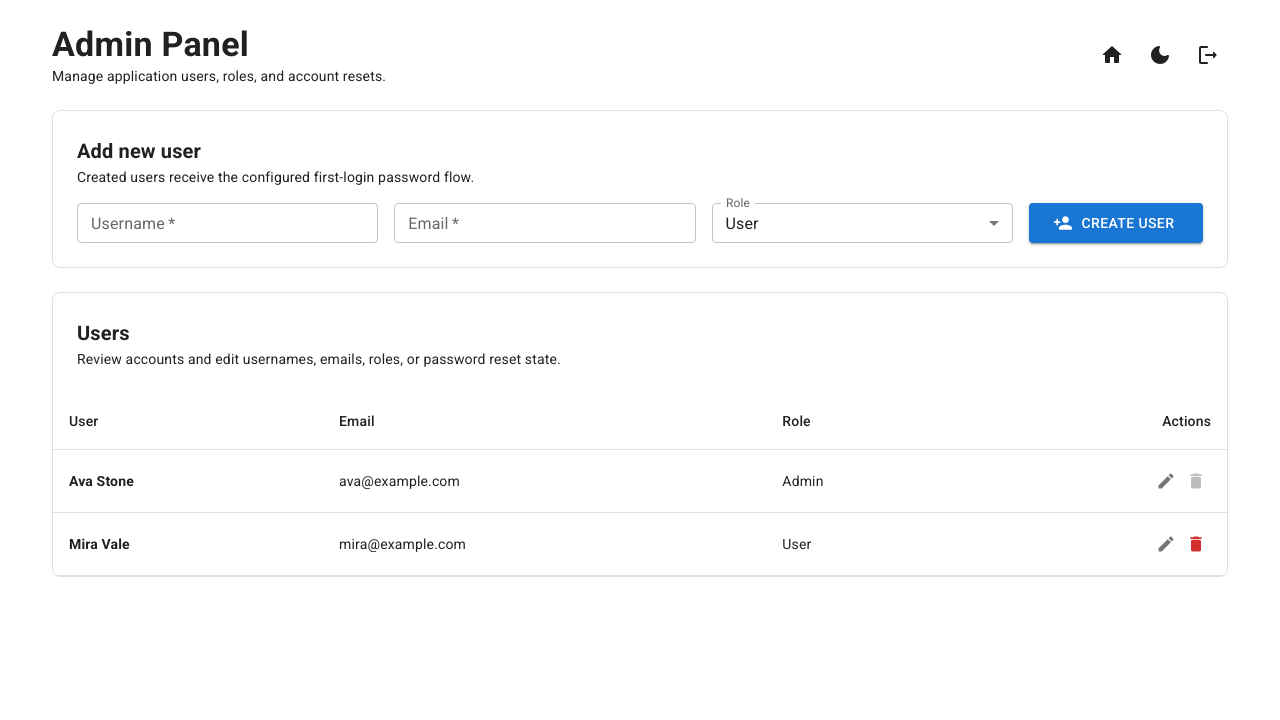
Test: <AdminPanelPage /> › deletes a user after confirmation
Expected: the text "mira@example.com" is shown, x1=323 y1=512 x2=766 y2=576
Click the button named "delete mira vale".
click(1196, 544)  # box x1=1181 y1=529 x2=1211 y2=559
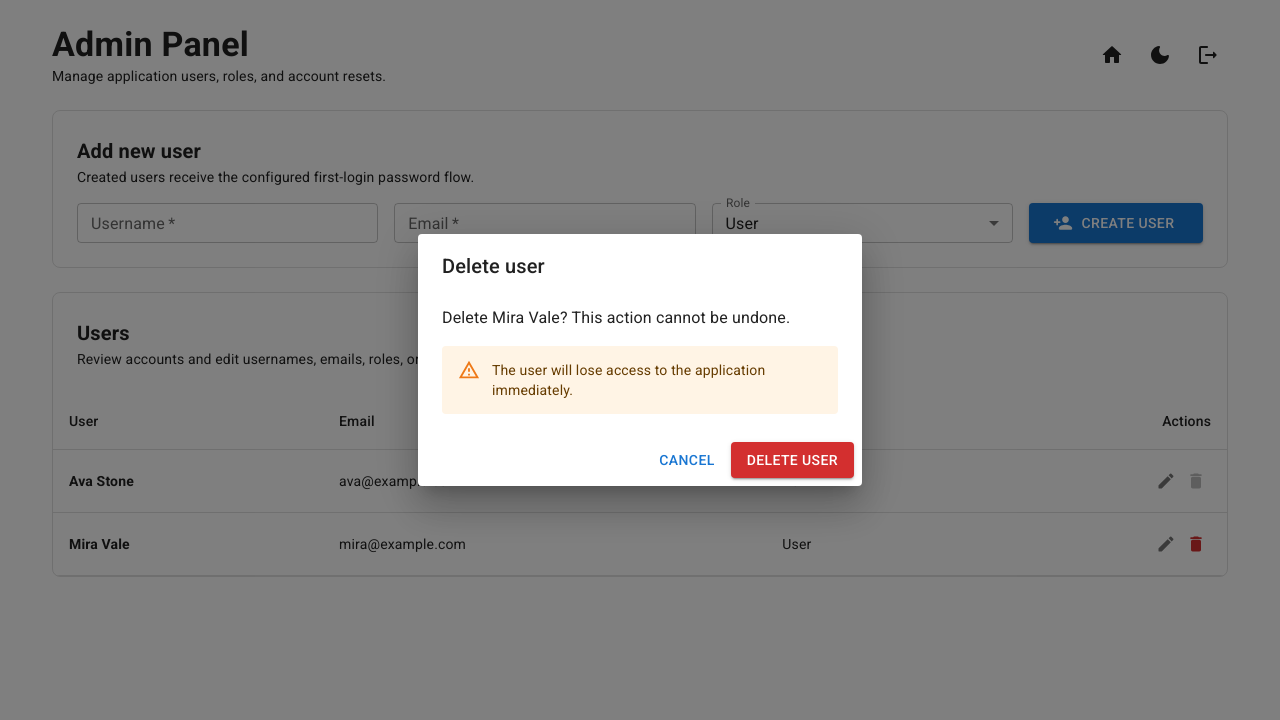
Click the button "Delete user".
click(792, 460)  # box x1=731 y1=442 x2=854 y2=478
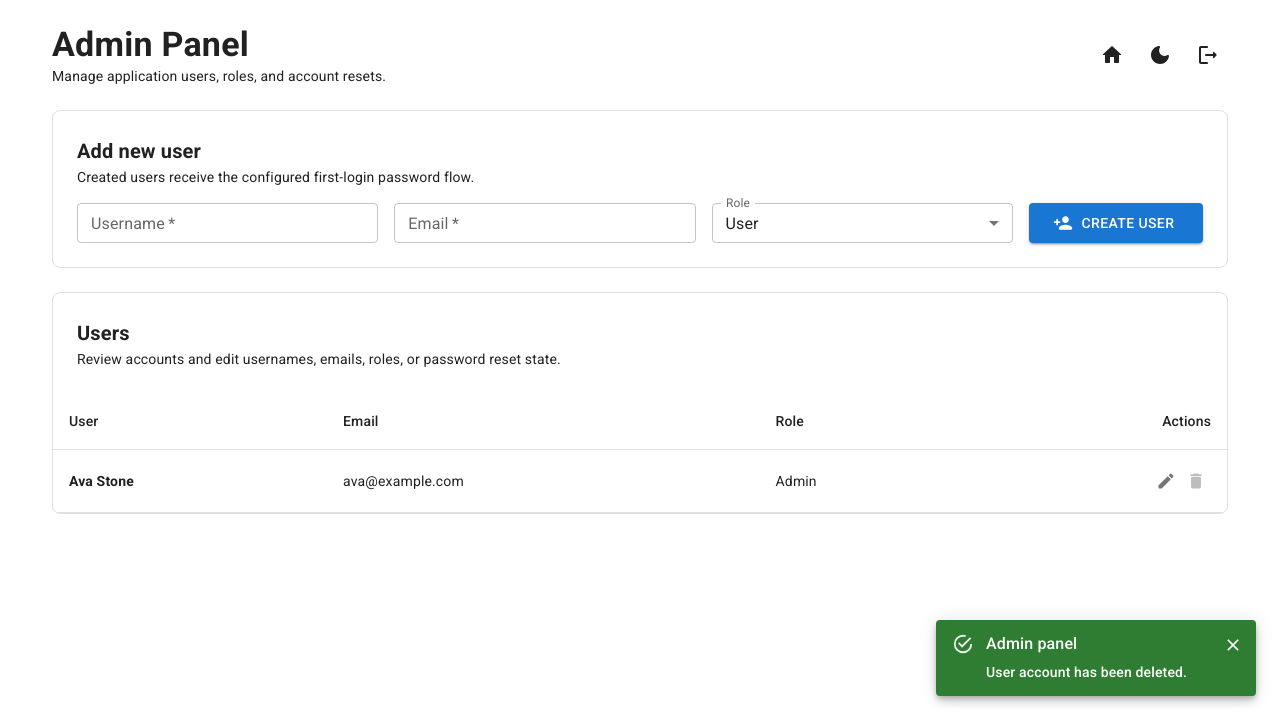
Expected: the text "mira@example.com" is gone
